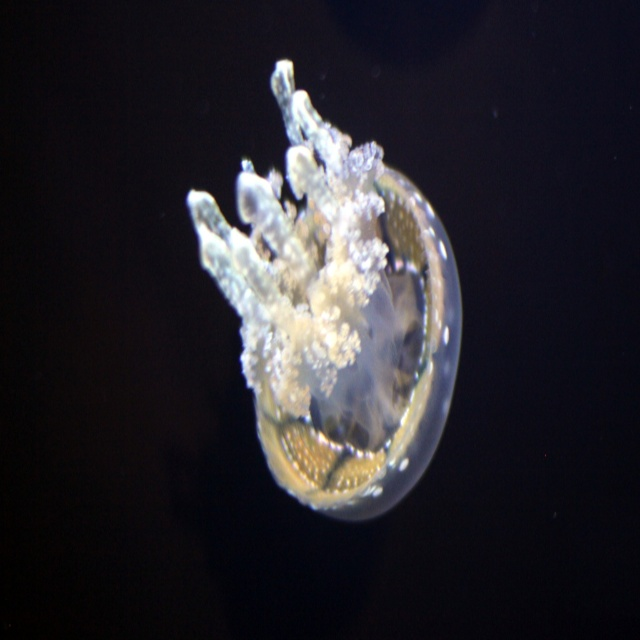Jellyfish: (184, 55, 464, 523)
